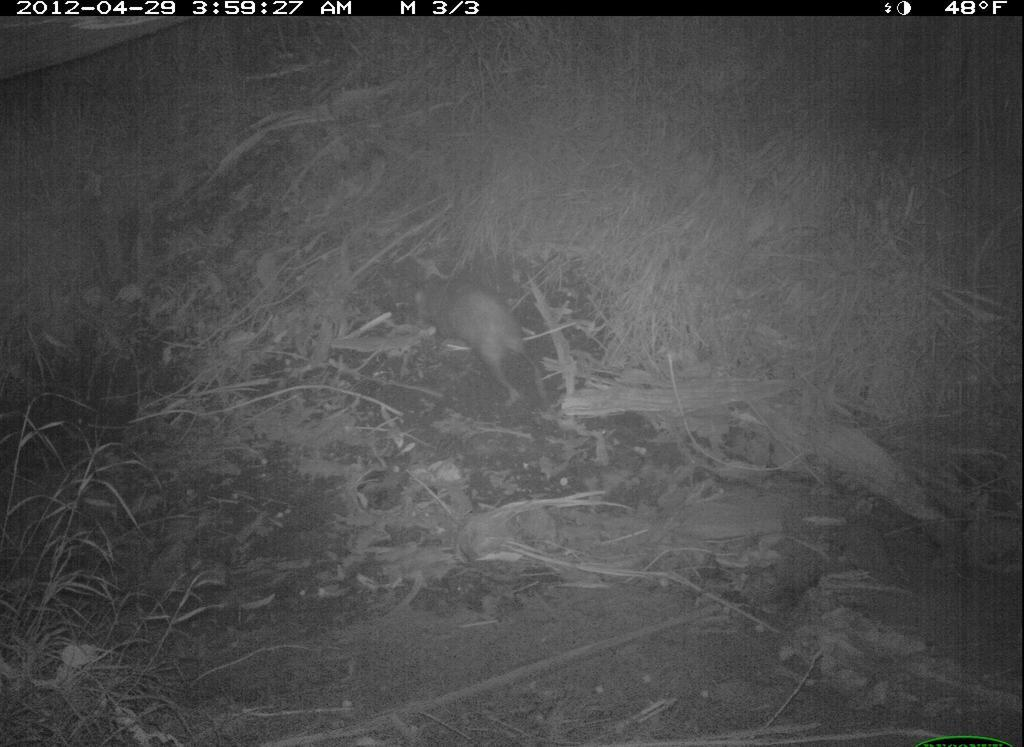opossum: (409, 268, 571, 417)
